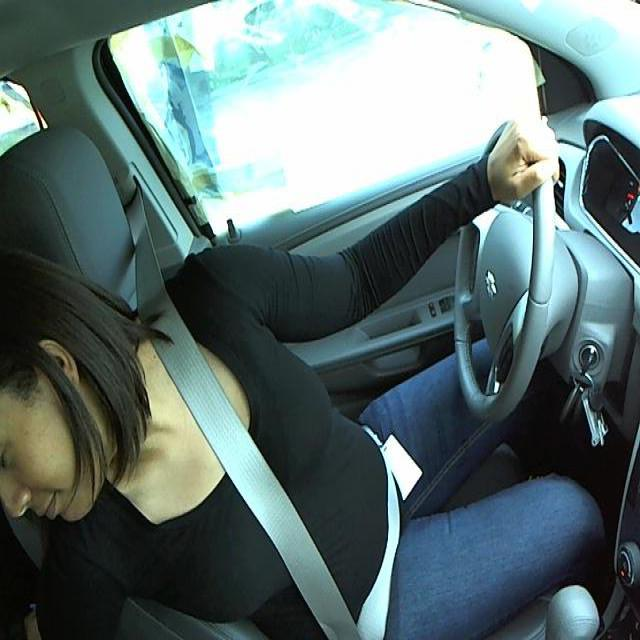seatbelt: (203, 404, 409, 633)
